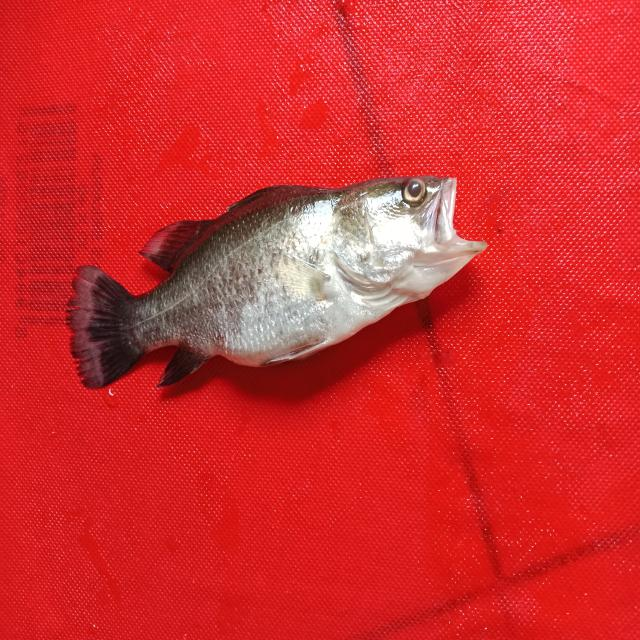ikan: (59, 143, 512, 409)
